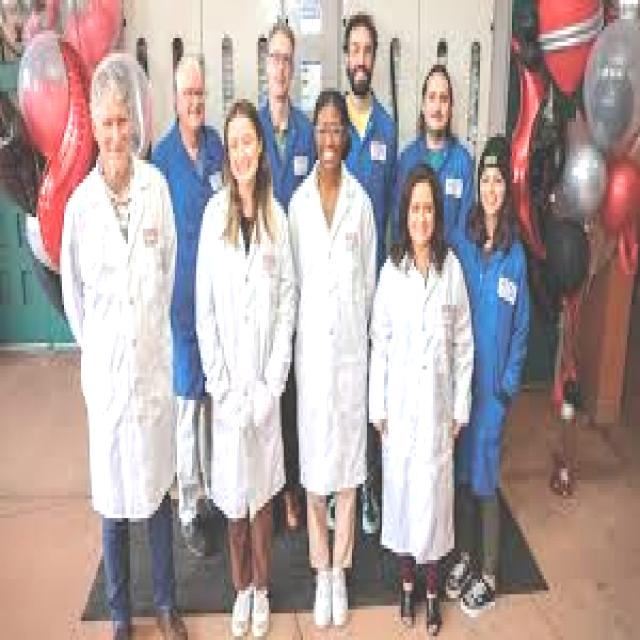person_with_labcoat: (62, 53, 186, 636), (196, 99, 294, 636), (369, 164, 471, 632), (288, 88, 375, 625), (446, 137, 527, 613), (151, 53, 222, 552), (393, 65, 474, 236), (343, 11, 395, 270), (258, 23, 314, 210), (282, 370, 299, 526), (363, 438, 378, 530)
